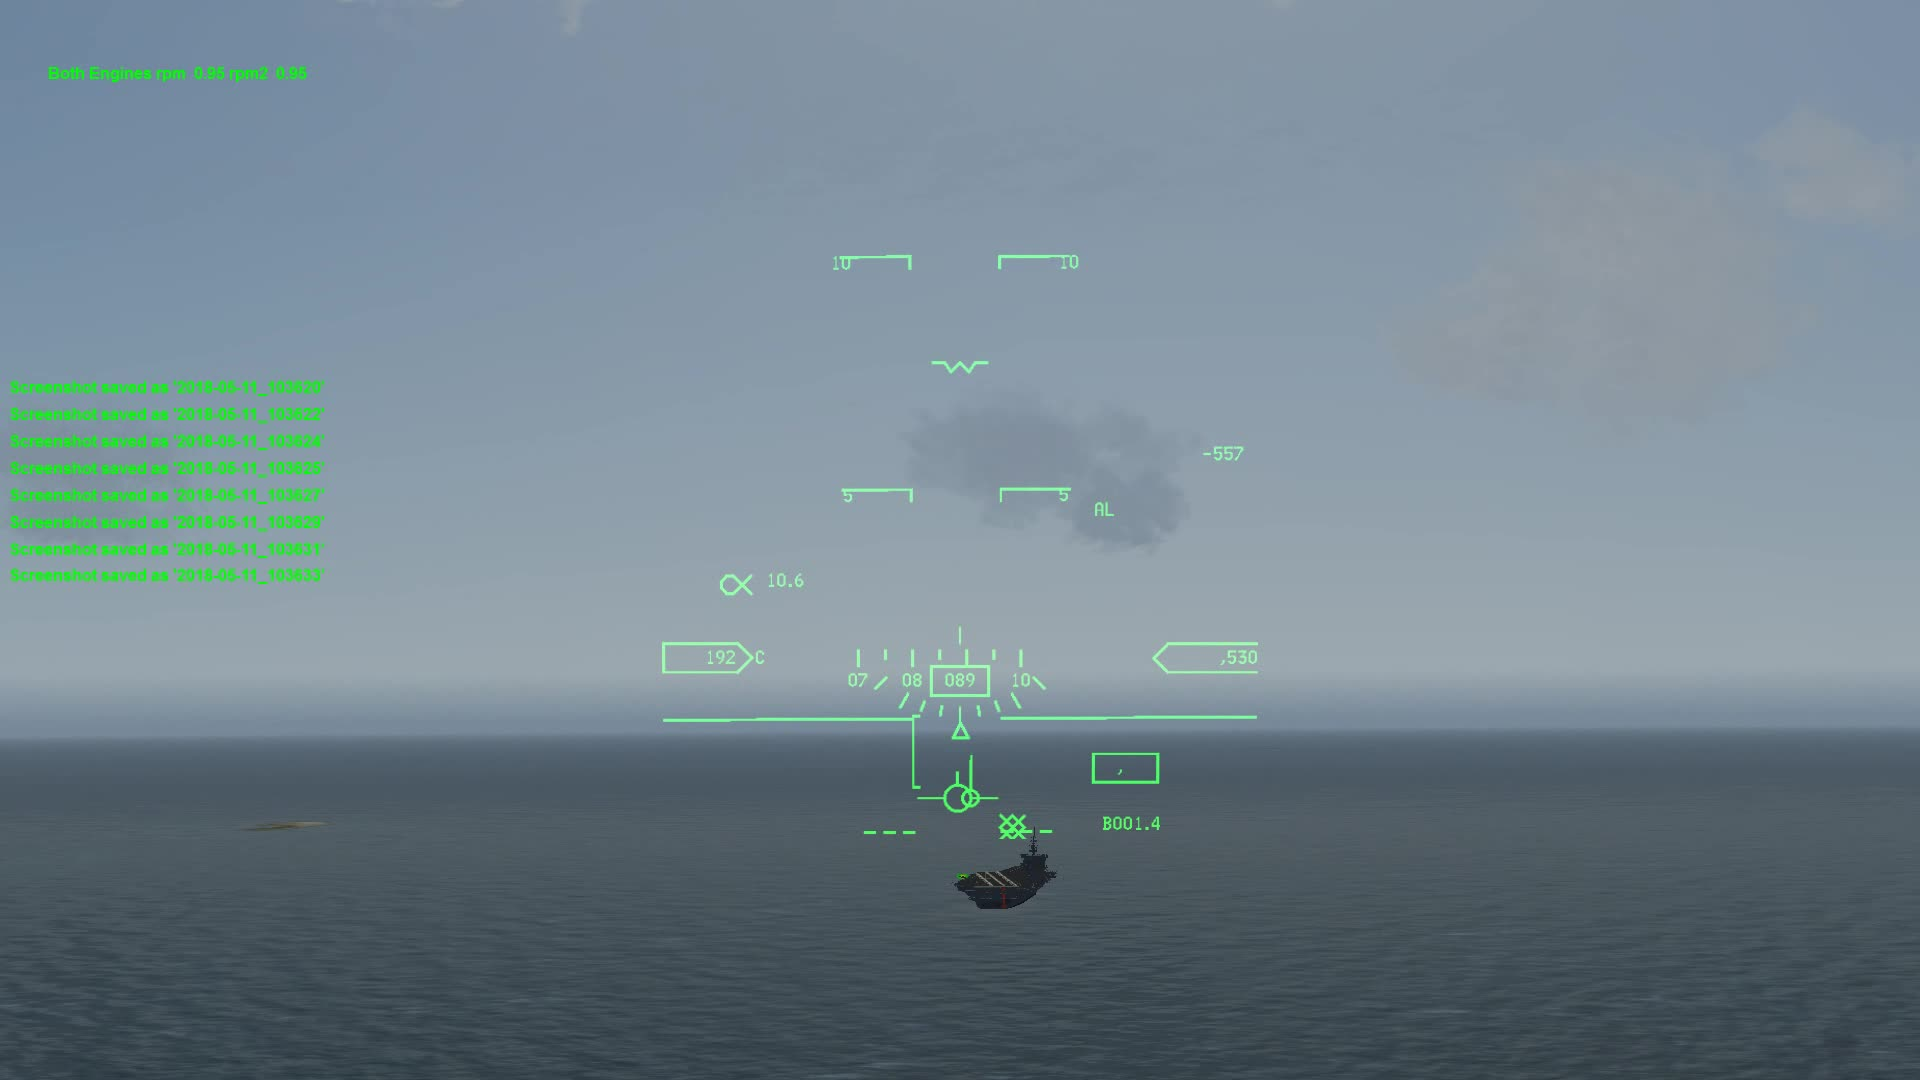speed vector: (918, 767, 1007, 822)
